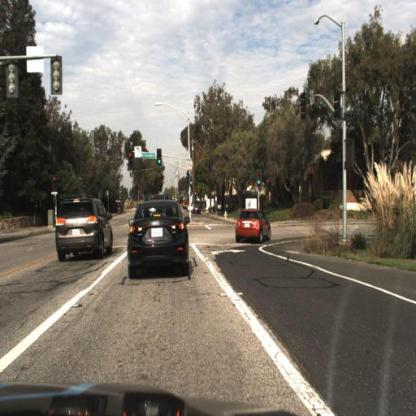car: (125, 195, 191, 278), (54, 193, 115, 264), (235, 209, 275, 247), (191, 203, 203, 221)
trafficLight-Green: (157, 147, 166, 167), (256, 168, 264, 189), (188, 174, 195, 190)
trafficLight-RedLeft: (128, 142, 137, 160)
